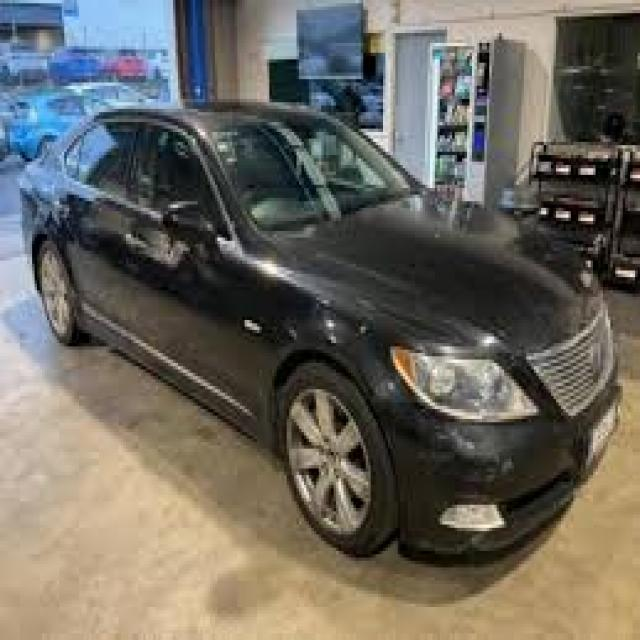minor: (133, 215, 199, 282)
